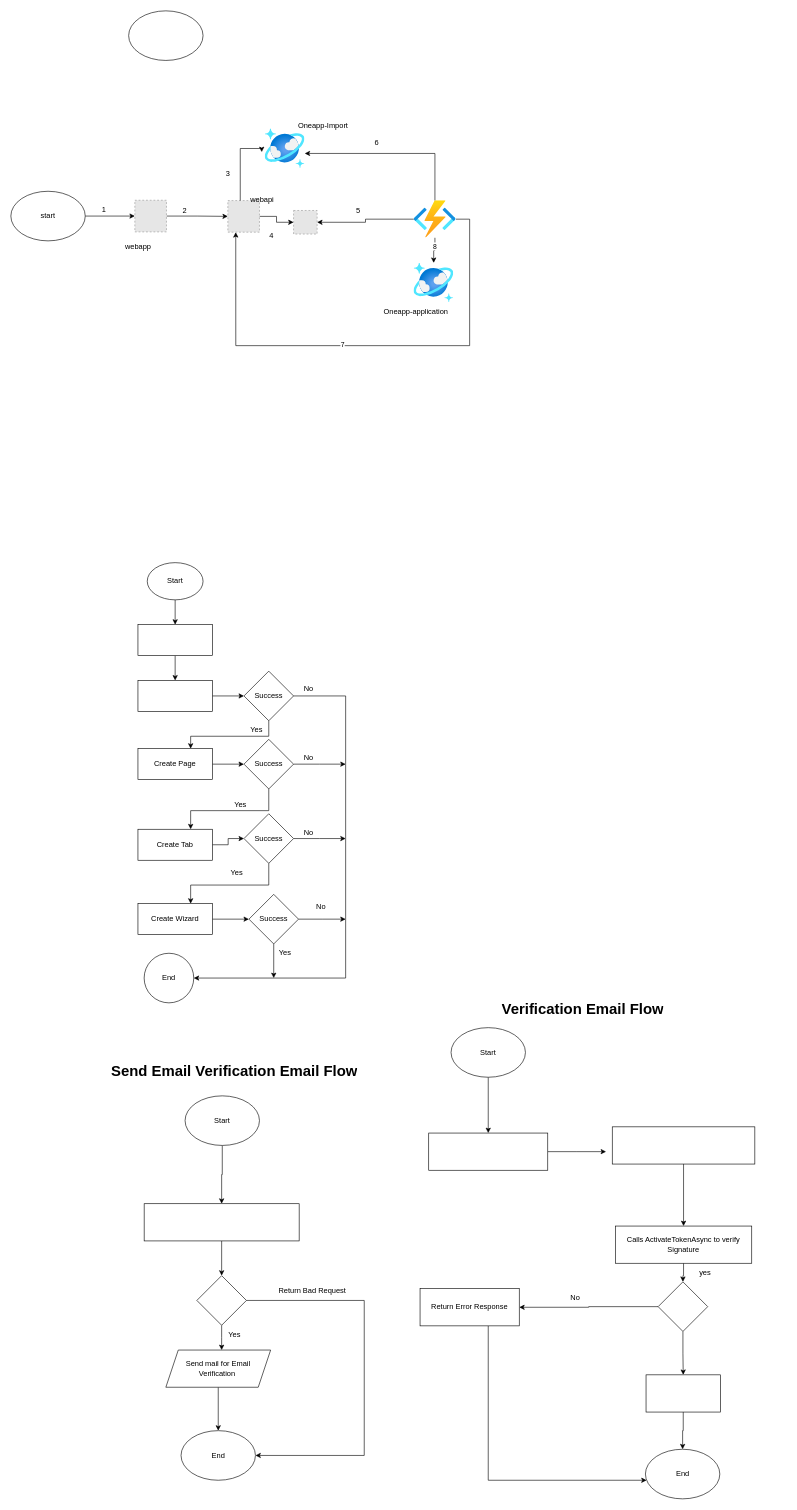
The diagram is 797 pixels wide and 1510 high, and some of its shapes have lost their labels. Grey dashed boxes stand in for pictures. The shapes that lost their labels are listed below. From the top down, each one's centre as x and y in pixels, then its label:
At pixel 174 640: "Upload document by calling importApplication Api".
At pixel 174 695: "create Application".
At pixel 488 1151: "Click on the verify email on the email received".
At pixel 683 1145: "Calls TokenVerification action from Email Verification API with tocken".
At pixel 221 1222: "Start Verification Process(VerifyAsync)".
At pixel 221 1300: "Validate Request".
At pixel 683 1306: "IsValid".
At pixel 682 1393: "Email Verified".
